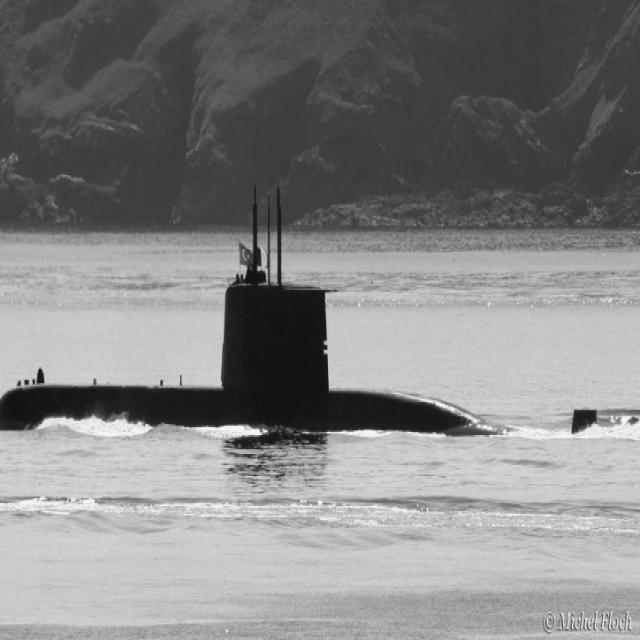submarine: (1, 279, 599, 431)
